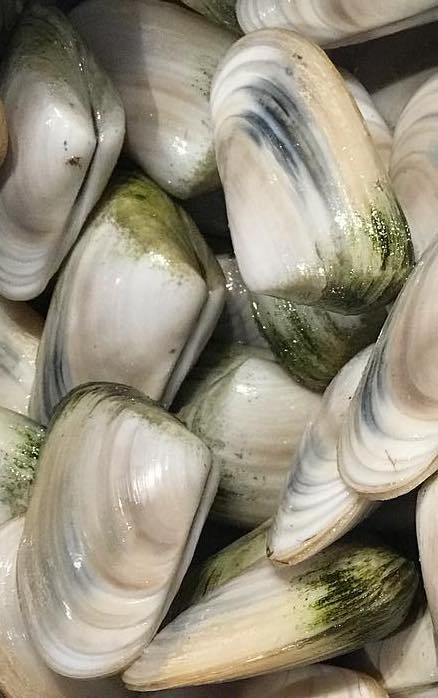tuatua: (15, 380, 223, 682), (209, 25, 415, 319), (29, 161, 228, 420), (124, 551, 424, 685), (2, 2, 128, 305), (67, 8, 233, 210), (335, 234, 438, 501)
